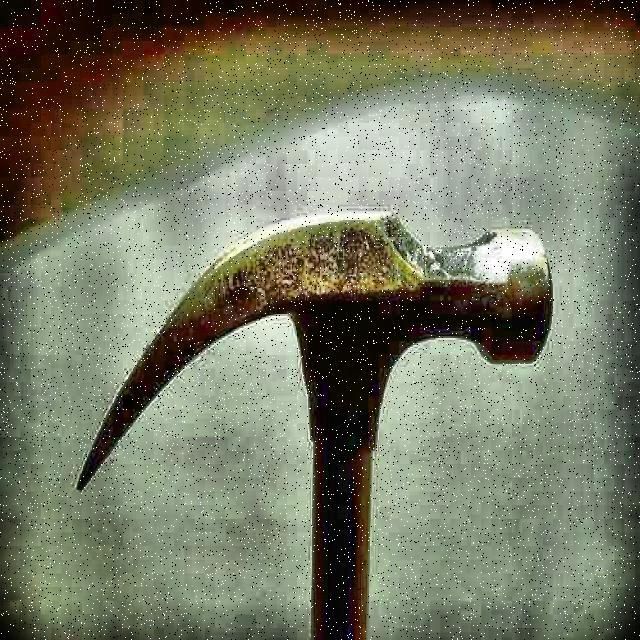hammer: (77, 207, 557, 640)
